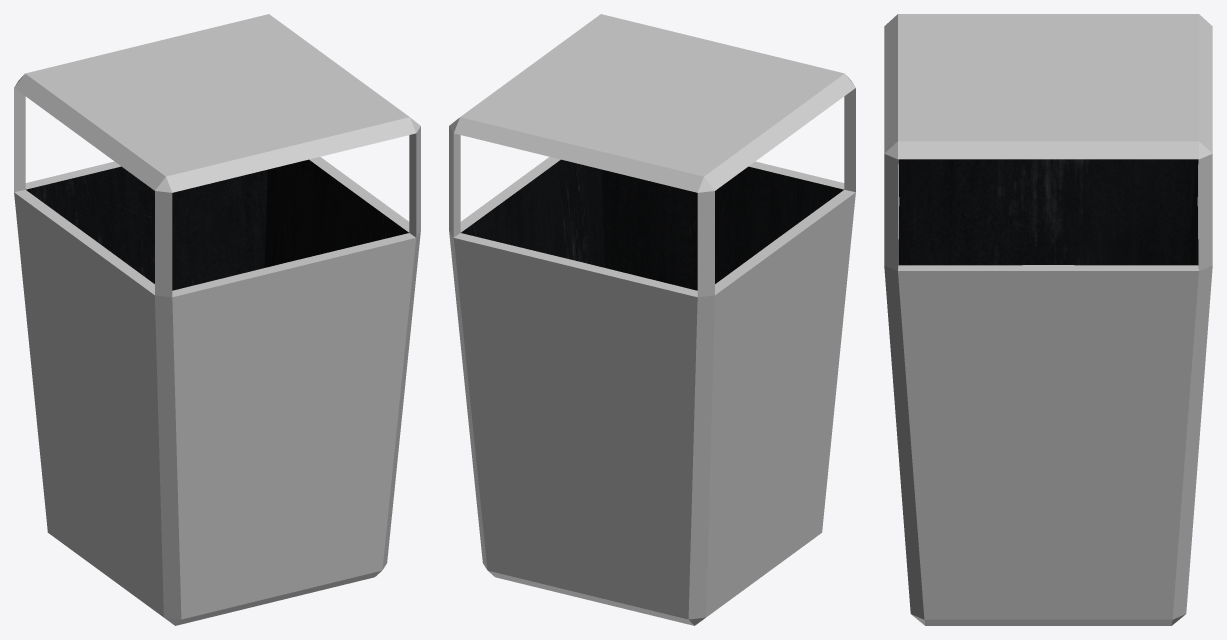
Rendered from Trashcan.fbx.
3 renders of one model, left to right at view 1: azimuth 30°, elevation 25°; view 2: azimuth 150°, elevation 25°; view 3: azimuth 270°, elevation 25°, orthographic. The views are drawn at different scales.
Visible parts, largest first — view 1: Trashcan; view 2: Trashcan; view 3: Trashcan.
Boxes of the visible parts, x1=… form: Trashcan: x1=14, y1=14, x2=420, y2=625; Trashcan: x1=449, y1=14, x2=855, y2=625; Trashcan: x1=884, y1=14, x2=1212, y2=625.
Bounding box in the file's own units: 240 × 400 × 240.
